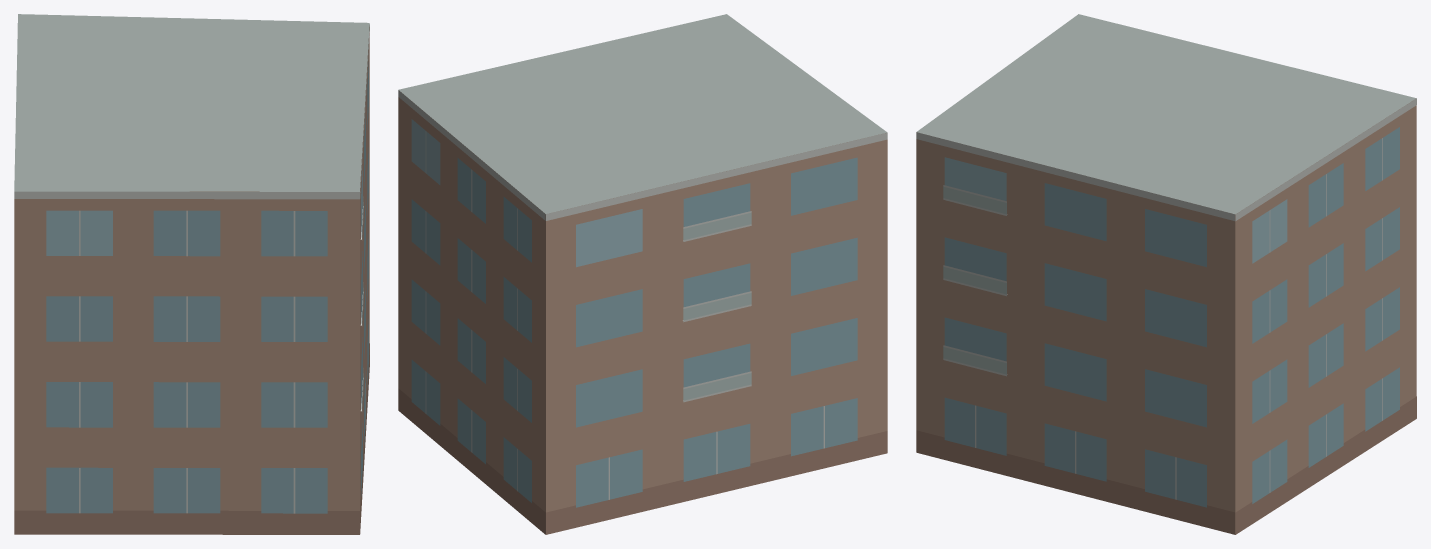
The model's file is survey-upis-32776678.glb.
3 renders of one model, left to right at view 1: azimuth 30°, elevation 25°; view 2: azimuth 150°, elevation 25°; view 3: azimuth 270°, elevation 25°, orthographic. The views are drawn at different scales.
Visible parts, largest first — view 1: survey-upis-32776678.tmp; view 2: survey-upis-32776678.tmp; view 3: survey-upis-32776678.tmp.
Part boxes in pixels (x1,y1,x2,y2): survey-upis-32776678.tmp: (14,14,369,534); survey-upis-32776678.tmp: (398,14,887,534); survey-upis-32776678.tmp: (916,14,1416,534).
Bounding box in the file's own units: 15.12 × 11.27 × 15.96.
